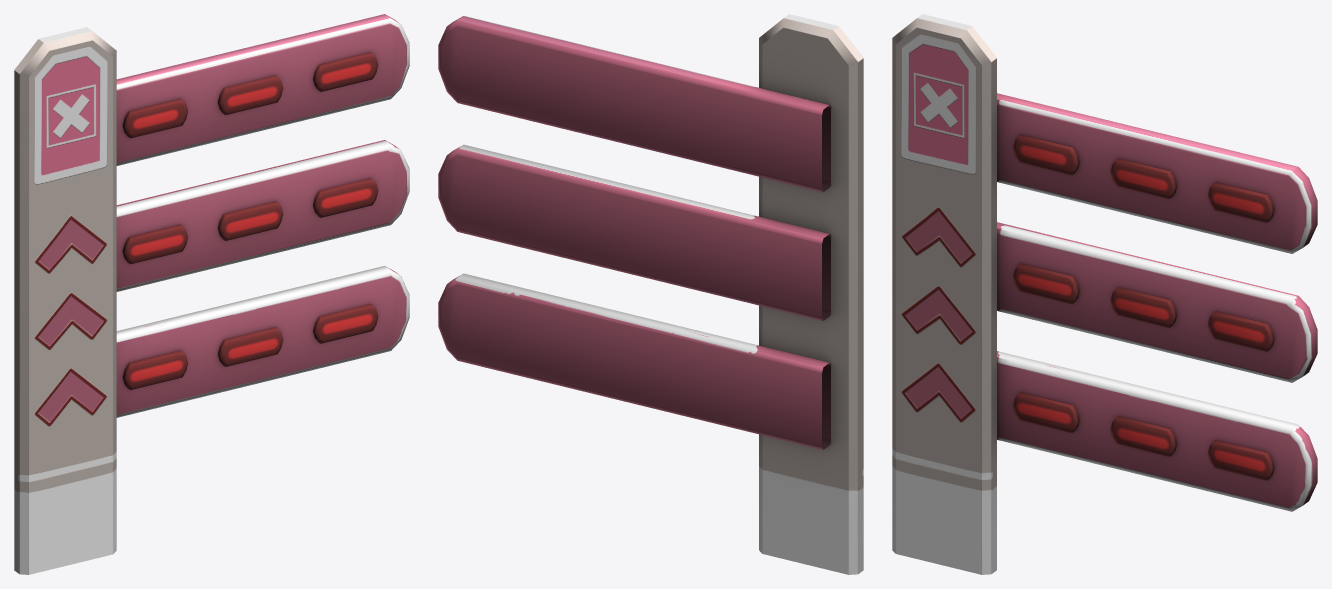
File: Barrier_3 NewSize.fbx
3 views of the same model, side by side, from view 1: azimuth 30°, elevation 25°; view 2: azimuth 150°, elevation 25°; view 3: azimuth 330°, elevation 25° (orthographic). The views are drawn at different scales.
Parts seen in each view (by area): view 1: Barrirer_3, Object002, Object001, Object003; view 2: Barrirer_3, Object003, Object001, Object002; view 3: Barrirer_3, Object003, Object001, Object002.
Boxes of the visible parts, box(x1,y1,x2,y2) form: Barrirer_3: box(14, 27, 116, 574); Object002: box(116, 140, 409, 291); Object001: box(116, 14, 409, 165); Object003: box(116, 266, 409, 417); Barrirer_3: box(759, 14, 863, 574); Object003: box(438, 273, 830, 449); Object001: box(438, 16, 830, 192); Object002: box(438, 144, 830, 320); Barrirer_3: box(892, 14, 996, 574); Object003: box(997, 351, 1317, 511); Object001: box(997, 93, 1317, 253); Object002: box(997, 222, 1317, 382).
Size of the model in its own units: 0.5826 by 0.7318 by 0.0507.
